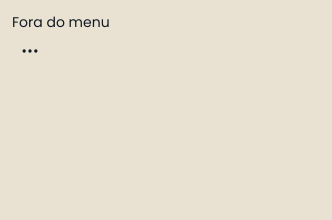
Scenario: ActionMenu › closes on Escape and returns focus to the button
Click the button named "Mais ações": (30, 51) [12,33,48,69]
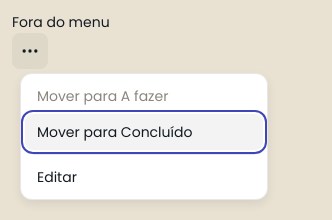
Press Escape
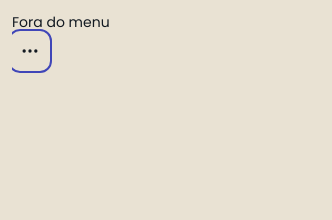
Expected: the menu is gone
